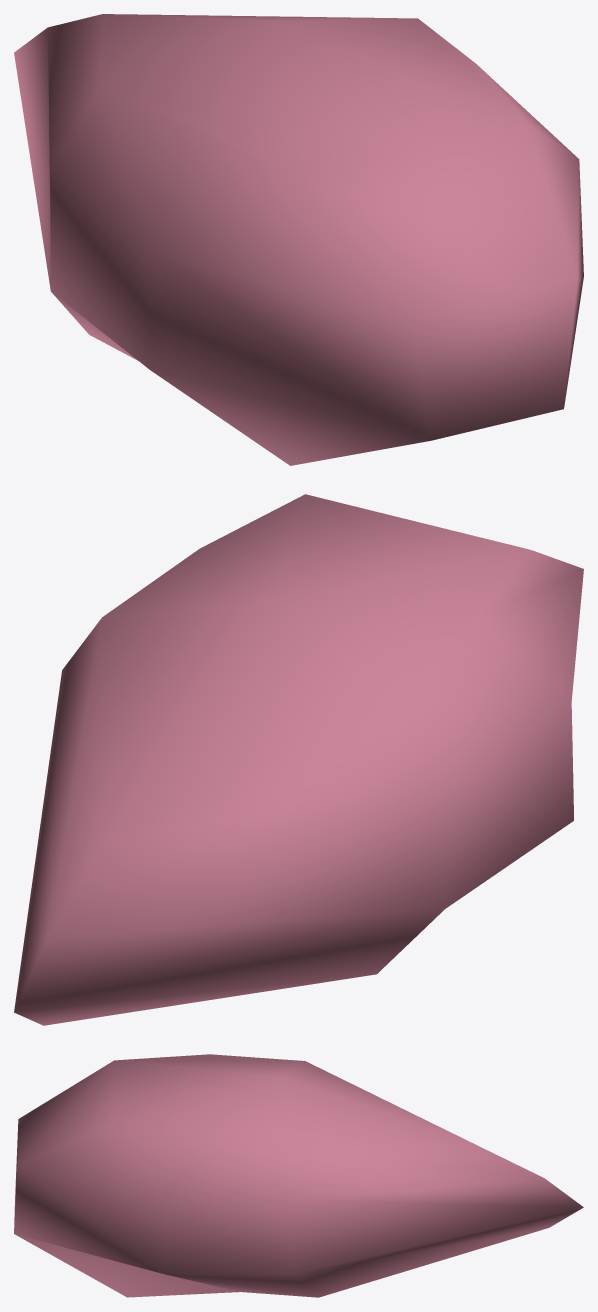
Rendered from Shallots.fbx.
3 renders of one model, top to bottom at view 1: azimuth 30°, elevation 25°; view 2: azimuth 150°, elevation 25°; view 3: azimuth 270°, elevation 25°, orthographic. The views are drawn at different scales.
Visible parts, largest first — view 1: bawang merah; view 2: bawang merah; view 3: bawang merah.
Boxes of the visible parts, left/top/right/bottom form: bawang merah: left=14, top=14, right=583, bottom=465; bawang merah: left=14, top=494, right=583, bottom=1025; bawang merah: left=14, top=1054, right=583, bottom=1297.
Bounding box in the file's own units: 0.8078 × 0.6246 × 1.62.
